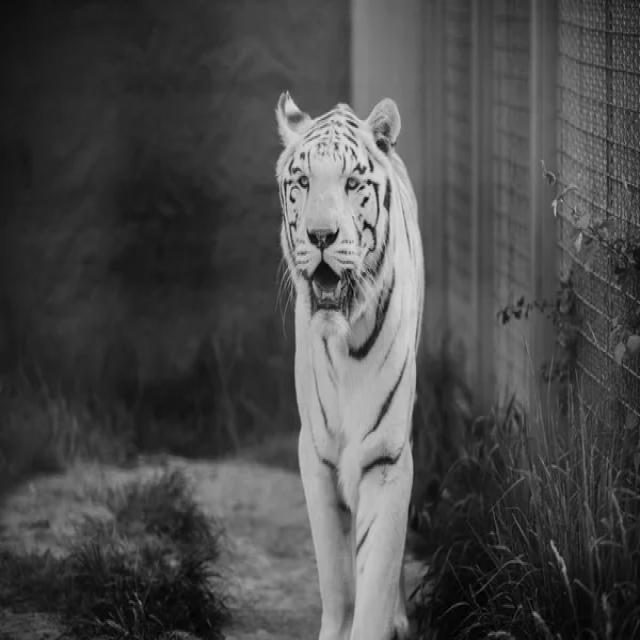Animal: (277, 93, 426, 640)
